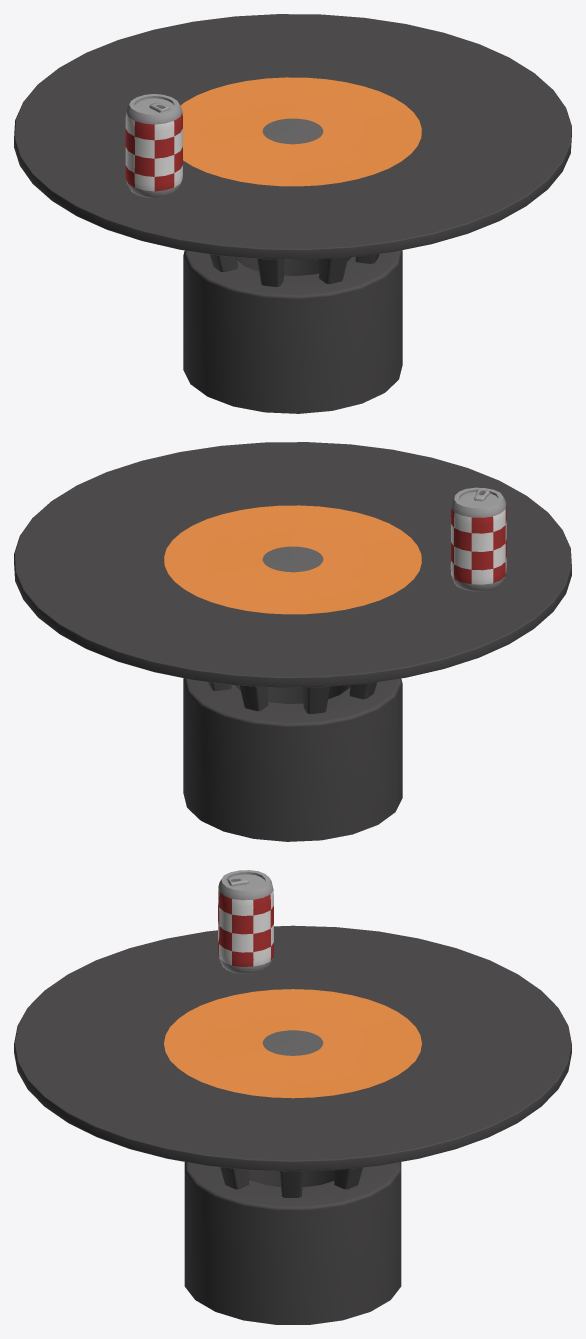
The model's file is table.fbx.
3 views of the same model, one above another, from view 1: azimuth 30°, elevation 25°; view 2: azimuth 150°, elevation 25°; view 3: azimuth 270°, elevation 25° (orthographic).
Parts seen in each view (by area): view 1: table; view 2: table; view 3: table.
Part boxes in pixels (x1,y1,x2,y2): table: (14,14,571,413); table: (14,442,571,841); table: (14,870,571,1324).
Bounding box in the file's own units: 1.93 × 1.22 × 1.93.
